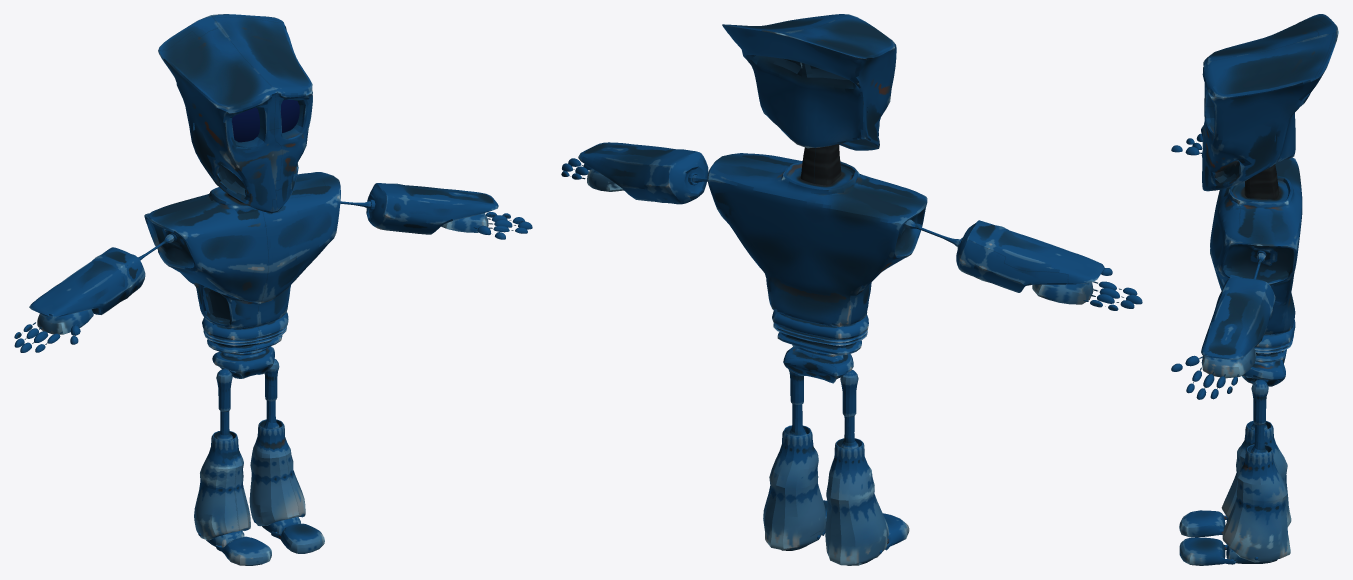
Rendered from ROBOT_Nice_rigged.fbx.
3 renders of one model, left to right at view 1: azimuth 30°, elevation 25°; view 2: azimuth 150°, elevation 25°; view 3: azimuth 270°, elevation 25°, orthographic. The views are drawn at different scales.
Parts seen in each view (by area): view 1: robot_1; view 2: robot_1; view 3: robot_1.
Boxes of the visible parts, x1,y1,x2,y2 form: robot_1: (14,14,532,565); robot_1: (561,14,1142,565); robot_1: (1171,14,1338,565).
Size of the model in its own units: 122 by 111 by 32.94.
